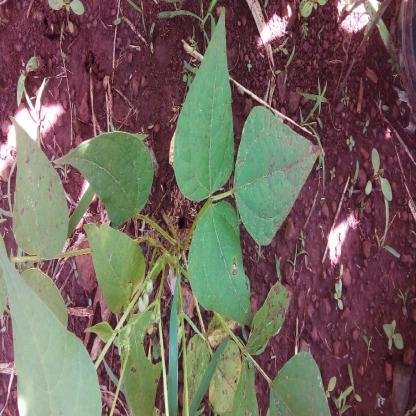Beans_Angular_LeafSpot: (185, 203, 289, 350), (240, 110, 319, 246), (13, 122, 75, 261), (185, 330, 250, 416)
